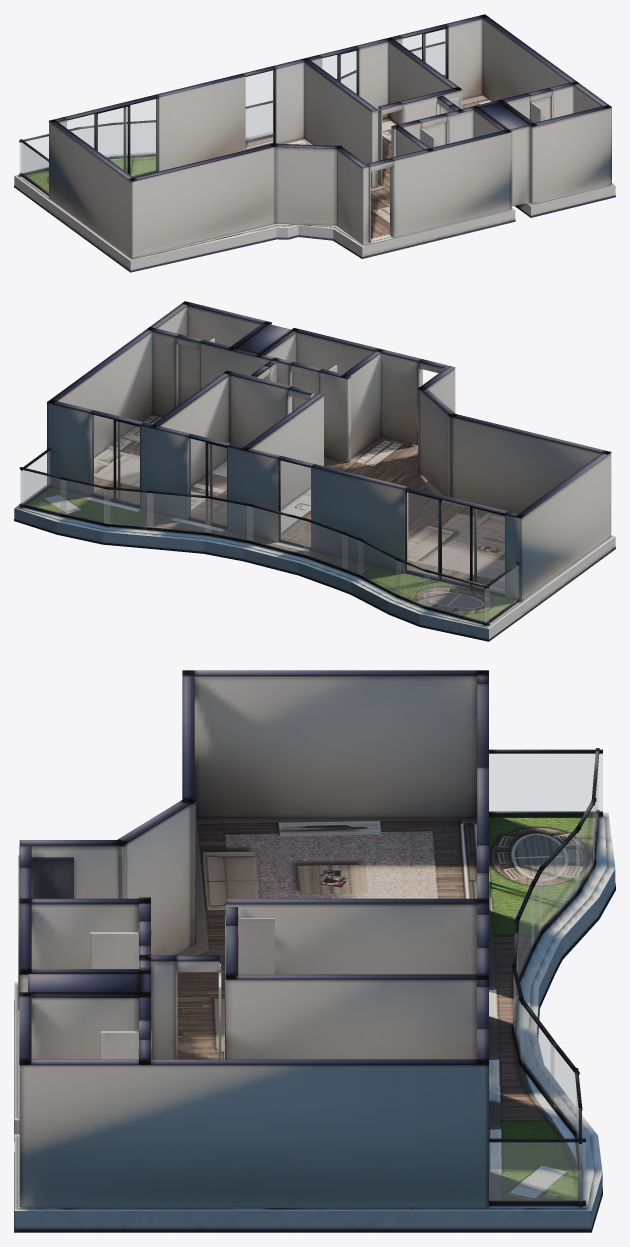
The picture shows the model from 3 angles, top to bottom: view 1: azimuth 30°, elevation 25°; view 2: azimuth 150°, elevation 25°; view 3: azimuth 270°, elevation 25°; orthographic projection. The views are drawn at different scales.
Visible parts, largest first — view 1: plan, glass0_m, glass1_m, glass3_m, railg10_m, railg1_m, railg12_m, glass2_m, railg7_m, railg11_m, railg2_m; view 2: plan, glass0_m, glass3_m, glass2_m, railg12_m, glass1_m, railg5_m, railg7_m, railg3_m, railg4_m, railg6_m, railg2_m (+6 smaller); view 3: plan, railg1_m, railg0_m, railg10_m, railg5_m, railg4_m, railg11_m, railg8_m.
Boxes of the visible parts, x1,y1,x2,y2 form: plan: (14,14,615,272); glass0_m: (67,99,157,176); glass1_m: (246,70,273,149); glass3_m: (402,29,445,76); railg10_m: (116,123,155,155); railg1_m: (21,143,48,192); railg12_m: (19,130,76,173); glass2_m: (322,51,356,93); railg7_m: (246,103,272,139); railg11_m: (80,126,110,156); railg2_m: (426,44,444,74); plan: (14,301,615,641); glass0_m: (407,492,504,593); glass3_m: (92,415,139,504); glass2_m: (189,438,226,525); railg12_m: (425,572,489,622); glass1_m: (280,461,310,546); railg5_m: (147,493,210,532); railg7_m: (247,506,309,555); railg3_m: (60,479,109,523); railg4_m: (104,489,153,527); railg6_m: (205,498,252,540); railg2_m: (20,470,65,514); plan: (14,670,615,1232); railg1_m: (489,754,602,811); railg0_m: (489,1142,585,1200); railg10_m: (539,831,579,931); railg5_m: (520,1003,554,1103); railg4_m: (550,1043,577,1133); railg11_m: (576,805,594,891); railg8_m: (517,889,533,976).
Bounding box in the file's own units: 13.52 × 2.62 × 8.63.
Materials: 2 (1 with a texture image).
